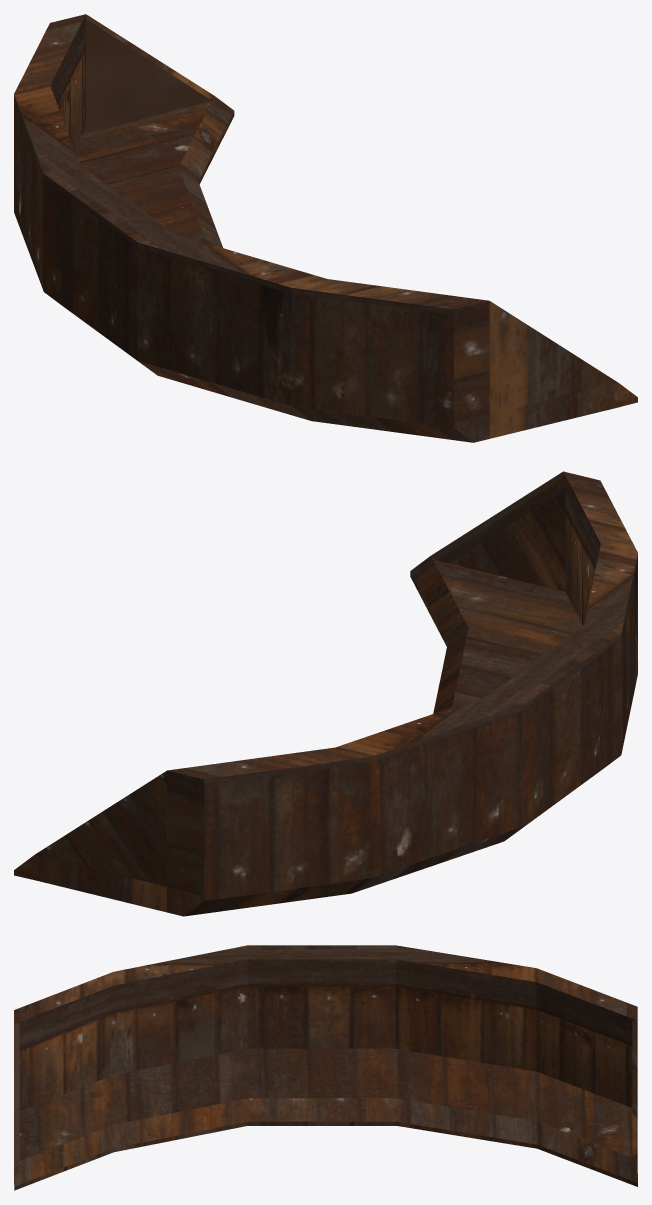
File: Ingridient rack .fbx
3 renders of one model, top to bottom at view 1: azimuth 30°, elevation 25°; view 2: azimuth 150°, elevation 25°; view 3: azimuth 270°, elevation 25°, orthographic. The views are drawn at different scales.
Visible parts, largest first — view 1: Cube; view 2: Cube; view 3: Cube.
Boxes of the visible parts, x1,y1,x2,y2 form: Cube: (14,14,637,442); Cube: (14,471,637,916); Cube: (14,945,637,1190).
Size of the model in its own units: 434 by 163 by 842.
